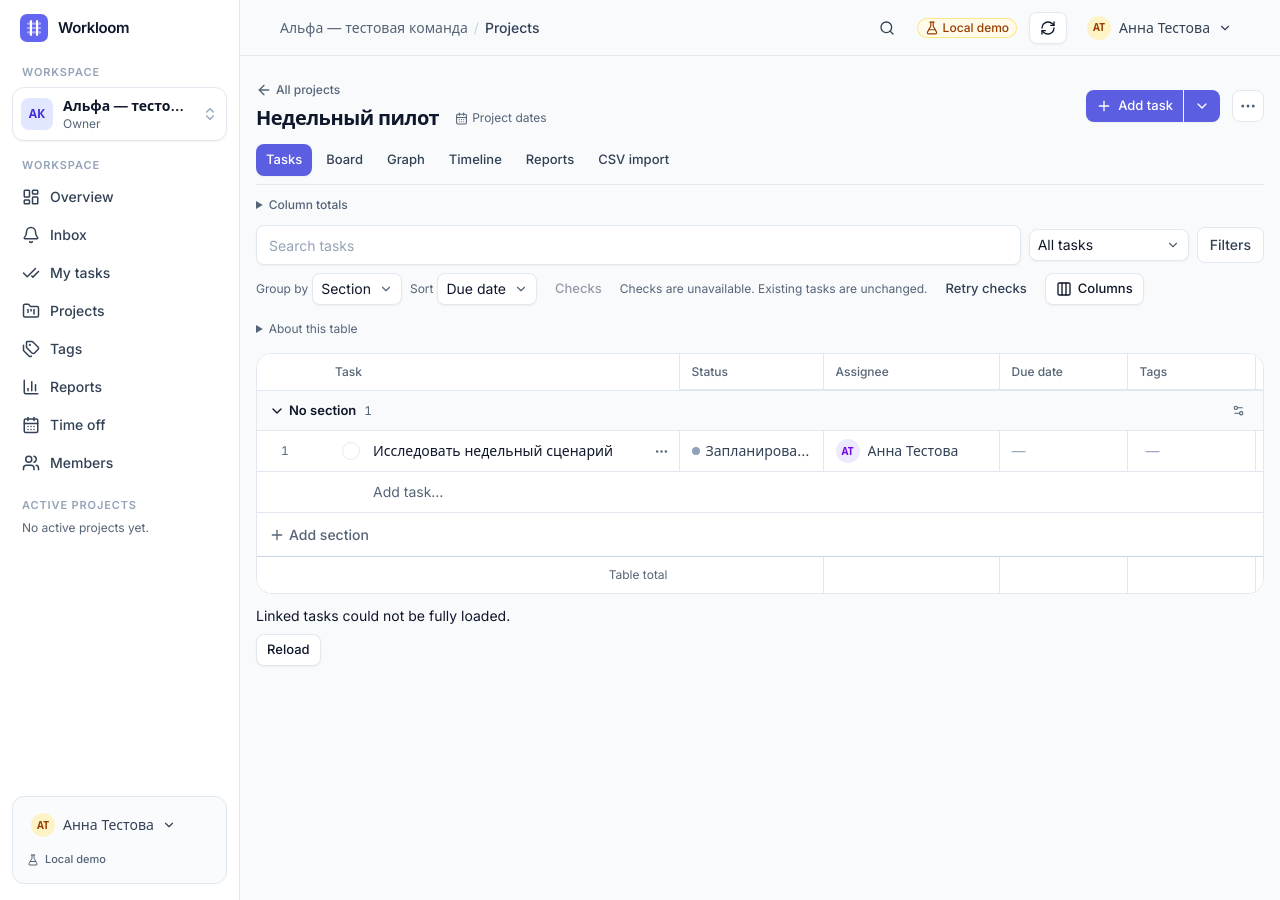
it: puts only the applicable Table guidance in one initially closed native disclosure
This screenshot has width=1280, height=900.
Expected: the table is shown, [257, 354, 1264, 592]
Click the dropdown named "Group by".
click(357, 289)  # box [312, 273, 402, 305]
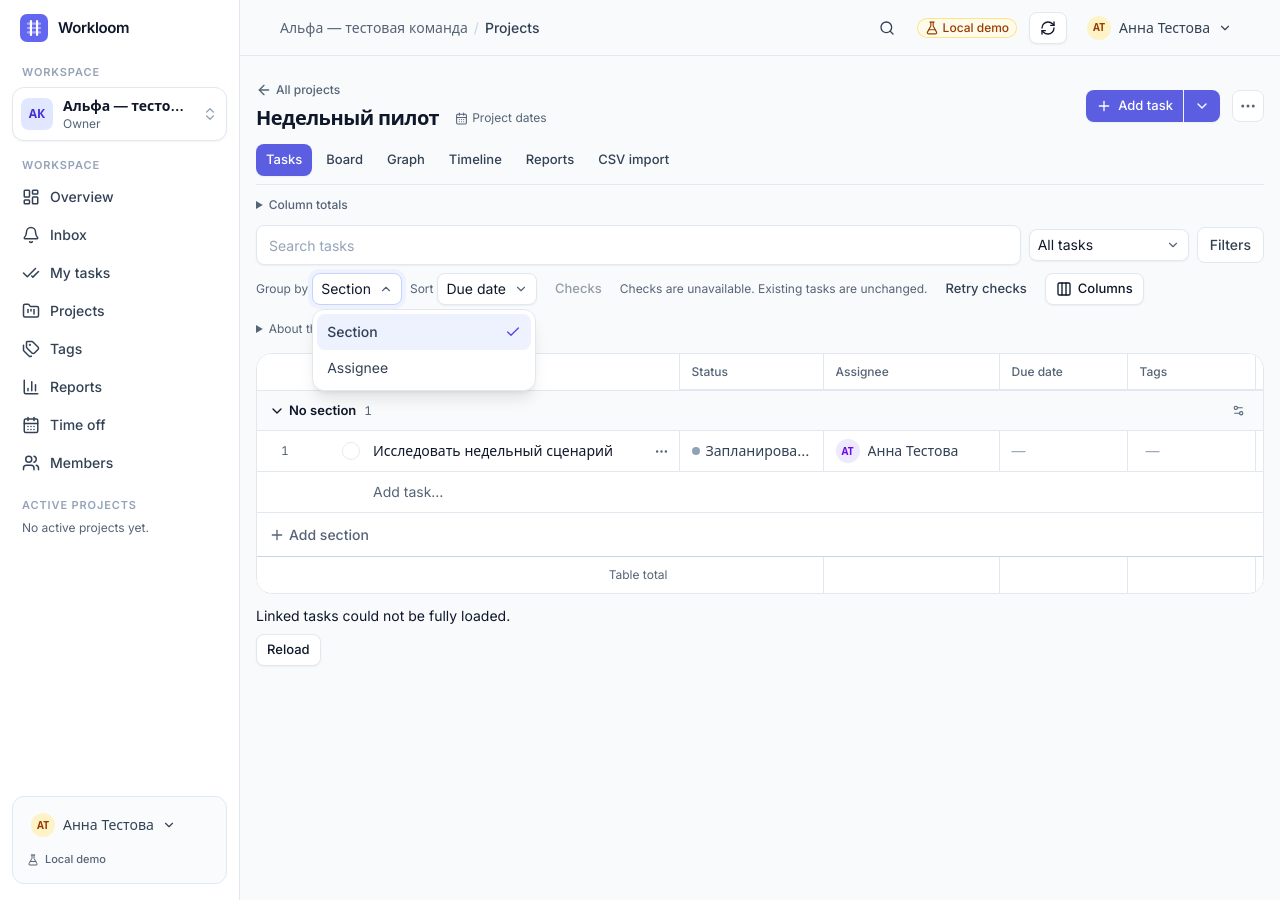
Click the option "Assignee".
click(358, 368)  # box [327, 359, 388, 376]
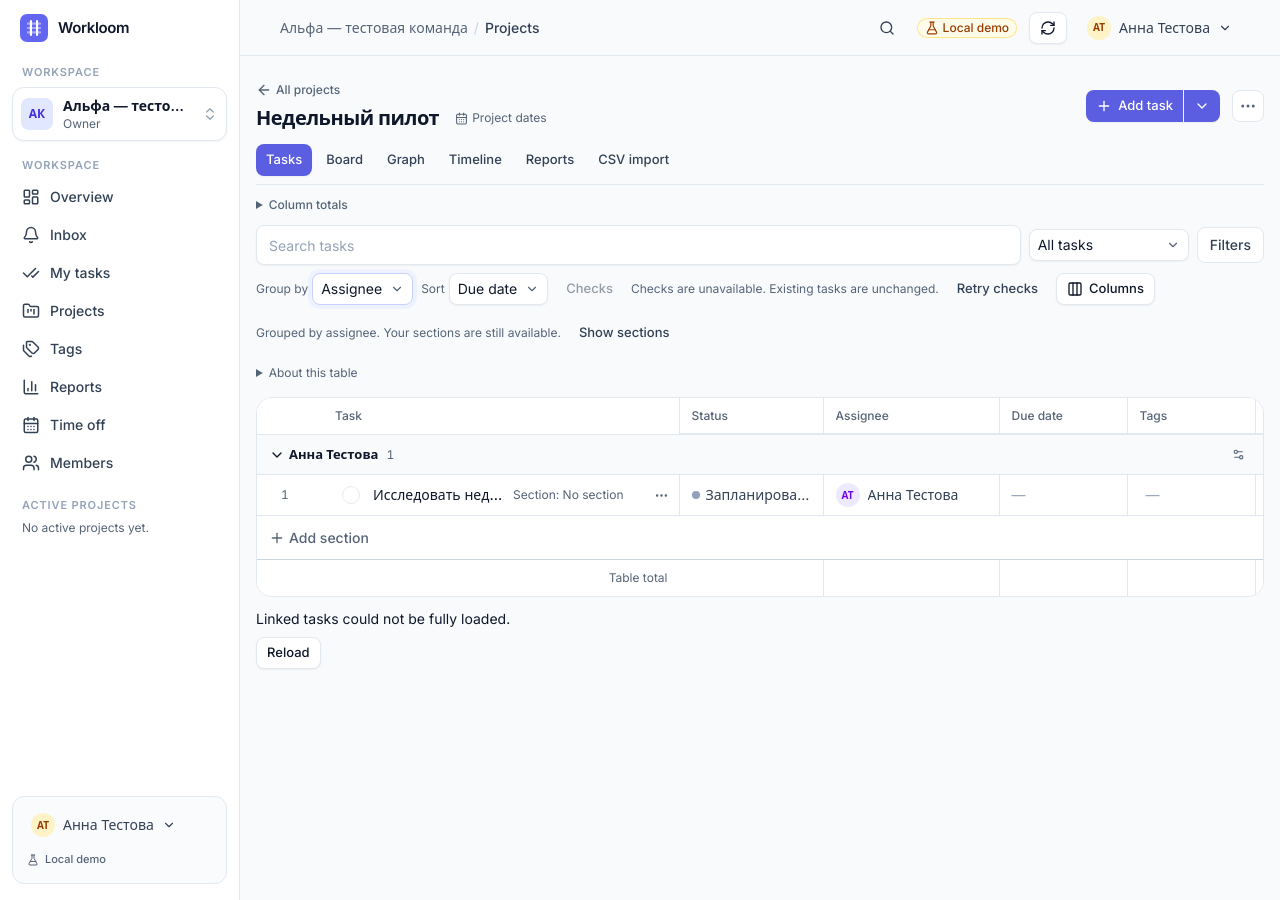
Click the heading "About this table".
click(307, 373)  # box [256, 361, 358, 385]
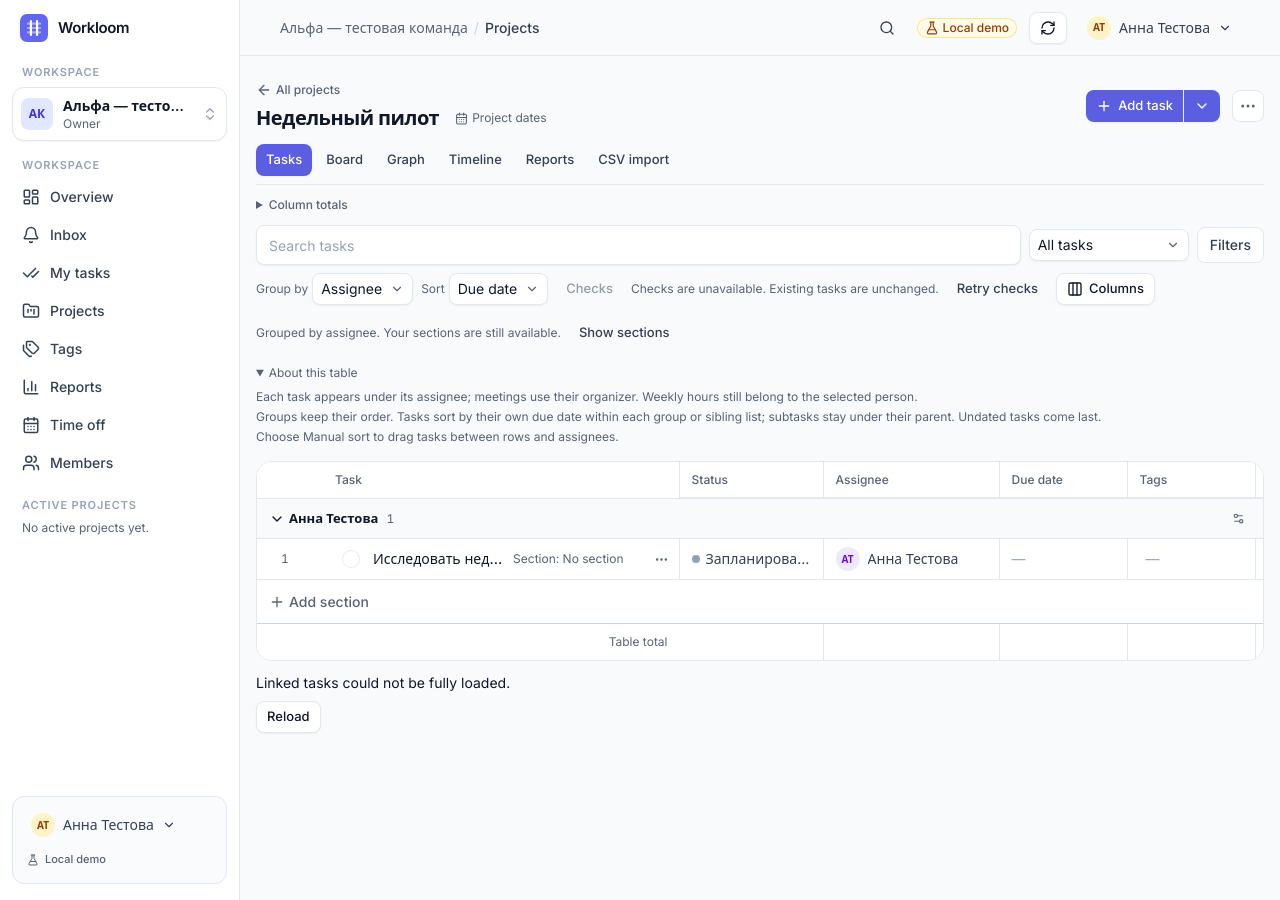
Now the text "Each task appears under its assignee; meetings use their organizer. Weekly hours still belong to the selected person." is shown, box [256, 389, 918, 404]
Now the text "Groups keep their order. Tasks sort by their own due date within each group or sibling list; subtasks stay under their p" is shown, box [256, 409, 1102, 424]
Click the dropdown named "Sort".
click(498, 289)  # box [449, 273, 548, 305]
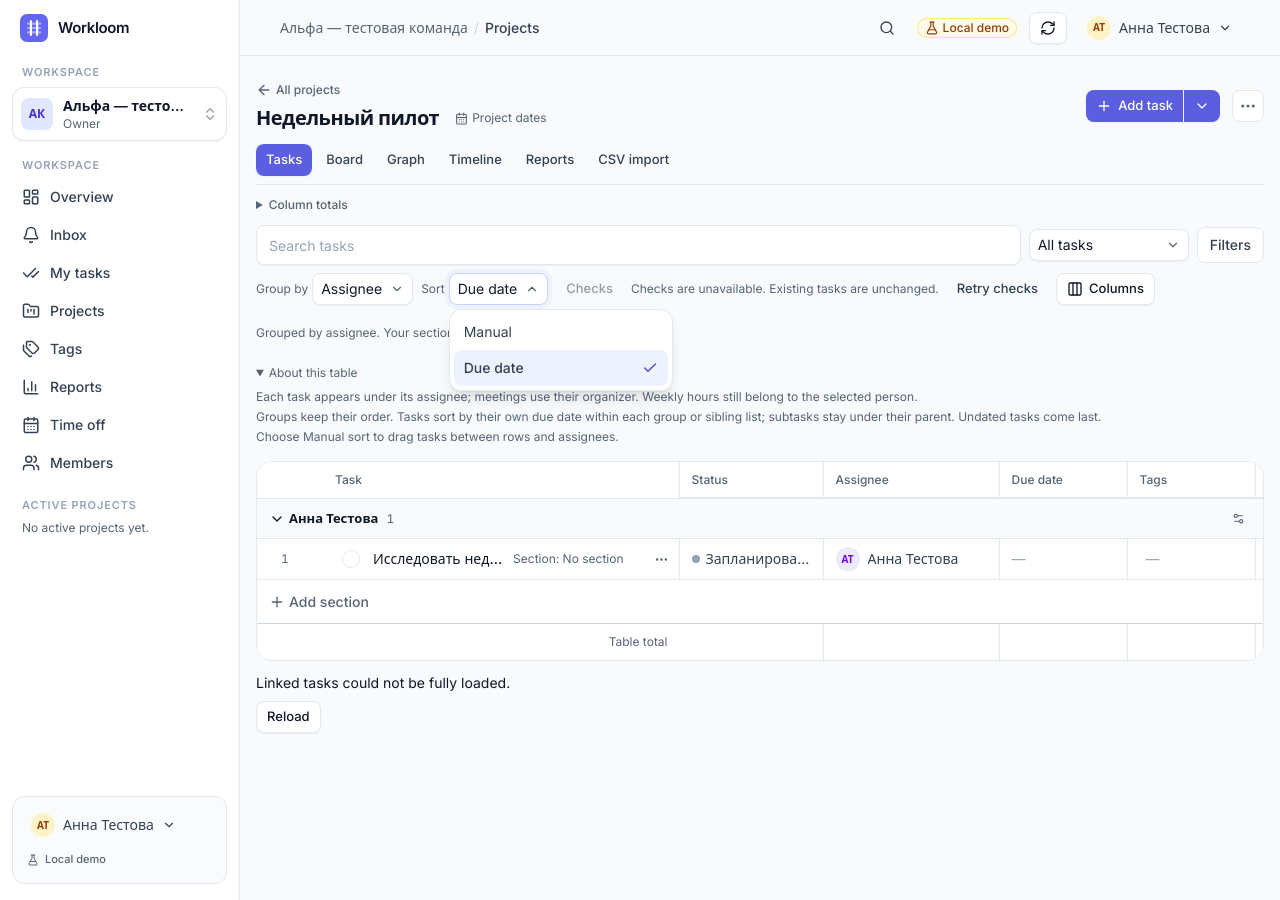
Click the option "Manual".
click(488, 332)  # box [464, 323, 512, 340]
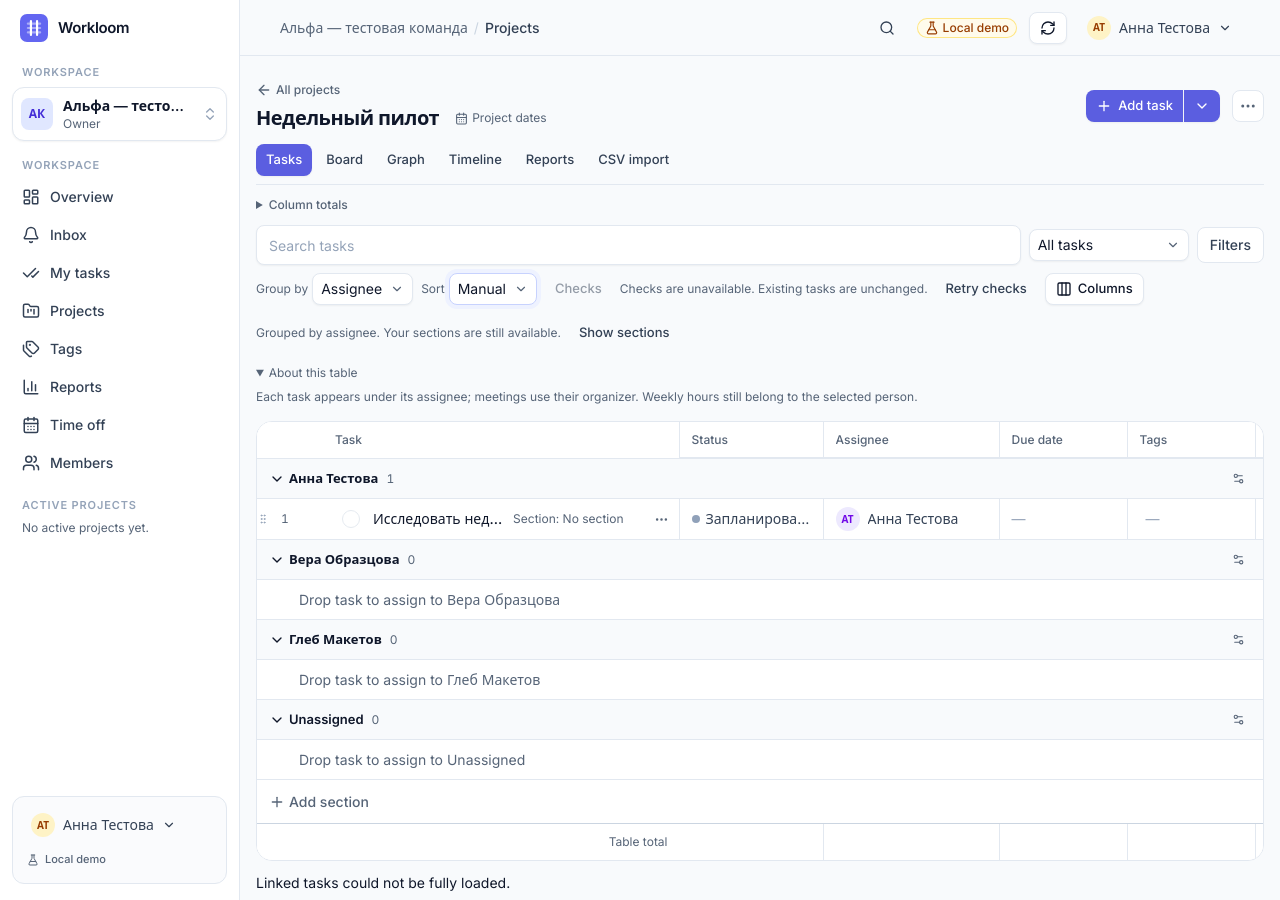
Now the text "Each task appears under its assignee; meetings use their organizer. Weekly hours still belong to the selected person." is shown, box [256, 389, 918, 404]
Now the text "Groups keep their order. Tasks sort by their own due date within each group or sibling list; subtasks stay under their p" is gone
